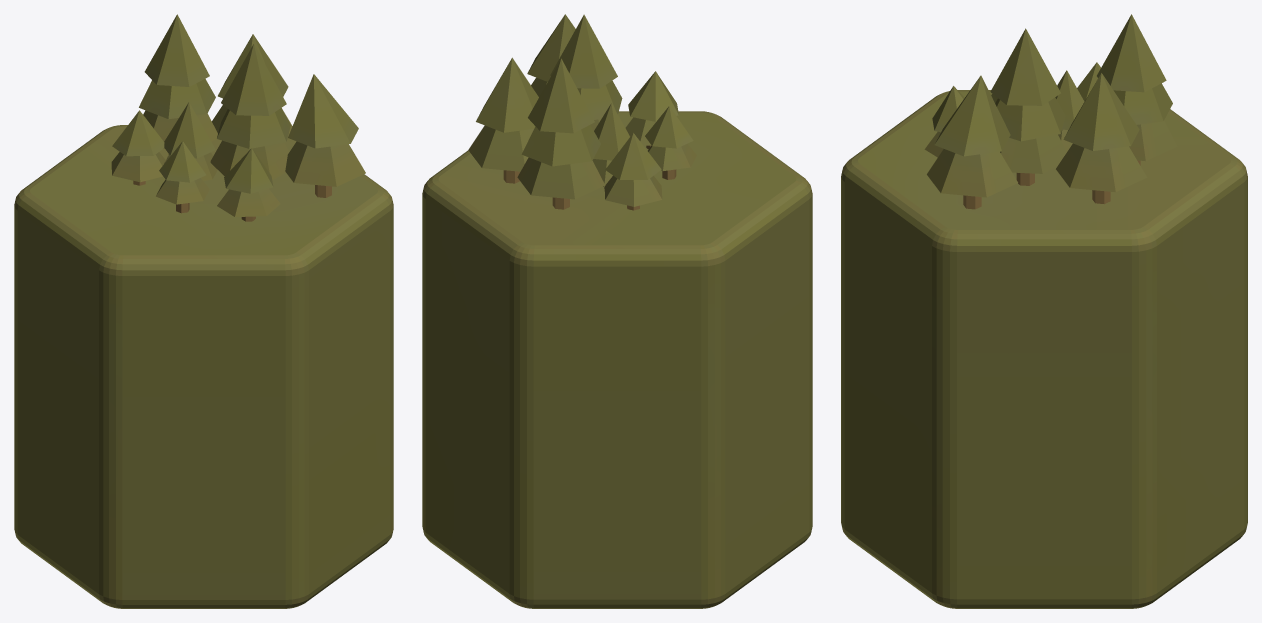
File: Hex-forest1.glb
3 renders of one model, left to right at view 1: azimuth 30°, elevation 25°; view 2: azimuth 150°, elevation 25°; view 3: azimuth 270°, elevation 25°, orthographic. The views are drawn at different scales.
Visible parts, largest first — view 1: Cylinder, Cylinder.043_Material.001_0; view 2: Cylinder, Cylinder.043_Material.001_0; view 3: Cylinder, Cylinder.043_Material.001_0.
Part boxes in pixels (box(x1,y1,x2,y2)): Cylinder: box(14, 125, 393, 608); Cylinder.043_Material.001_0: box(111, 14, 365, 221); Cylinder: box(422, 111, 812, 608); Cylinder.043_Material.001_0: box(468, 14, 696, 210); Cylinder: box(841, 90, 1247, 608); Cylinder.043_Material.001_0: box(924, 14, 1177, 209).
Size of the model in its own units: 1.73 by 2.82 by 1.95.
2 materials, 2 textured.
